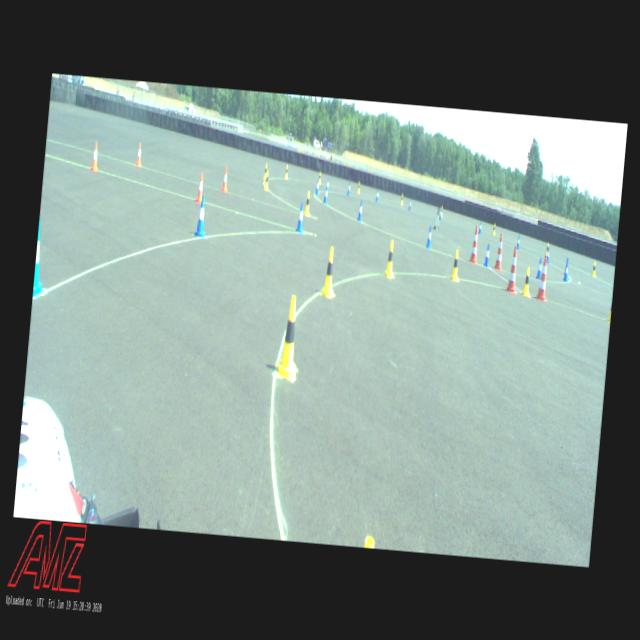blue_cone: (32, 217, 50, 297), (194, 194, 208, 237), (296, 202, 305, 232), (482, 242, 490, 266), (425, 224, 432, 248), (562, 262, 569, 280), (536, 258, 542, 278), (357, 200, 362, 222), (322, 186, 328, 203), (314, 178, 320, 195), (563, 256, 567, 274), (346, 182, 351, 195), (546, 248, 550, 263), (375, 188, 379, 202), (516, 236, 520, 248), (478, 222, 482, 234), (408, 198, 412, 210), (438, 208, 442, 220), (326, 177, 329, 192)
large_orange_cone: (506, 245, 520, 293), (536, 255, 550, 302), (493, 232, 504, 270), (469, 225, 480, 263)
orange_cone: (90, 142, 100, 172), (194, 173, 203, 202), (221, 166, 229, 192), (136, 142, 142, 165)
yellow_cone: (276, 294, 302, 379), (321, 245, 338, 298), (384, 238, 396, 278), (449, 248, 462, 281), (521, 266, 533, 298), (303, 190, 311, 215), (264, 170, 270, 190), (606, 302, 612, 322), (591, 260, 596, 276), (264, 162, 268, 178), (356, 181, 361, 193), (284, 164, 288, 179), (492, 223, 496, 236), (318, 170, 322, 183), (400, 193, 404, 205), (546, 242, 548, 255), (440, 206, 442, 217)
